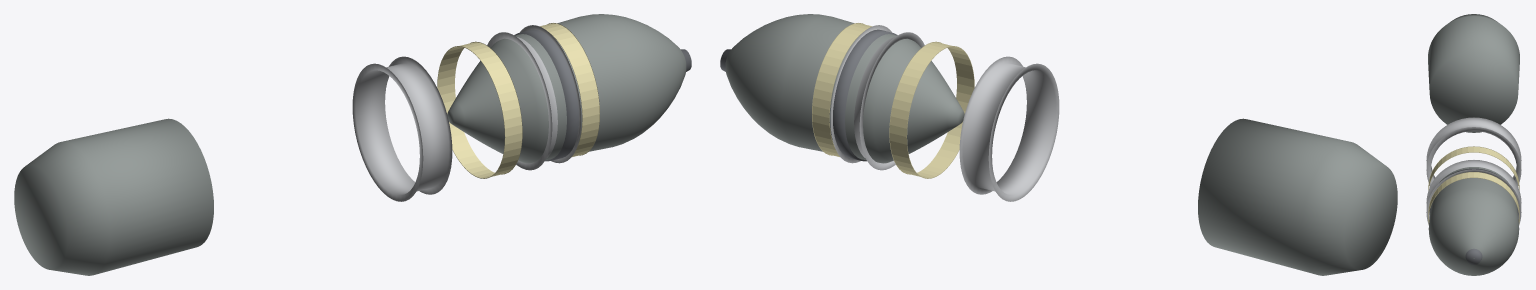
The model's file is US_SLBM_Poseidon_C3_LOD0.fbx.
The picture shows the model from 3 angles, left to right: view 1: azimuth 30°, elevation 25°; view 2: azimuth 150°, elevation 25°; view 3: azimuth 270°, elevation 25°; orthographic projection. The views are drawn at different scales.
Parts seen in each view (by area): view 1: WPN_US_SLBM_Poseidon_C3_LOD0_Tail, WPN_US_SLBM_Poseidon_C3_LOD0_Body, WPN_US_SLBM_Poseidon_C3_LOD0_Detail, WPN_US_SLBM_Poseidon_C3_LOD0_Marking, WPN_US_SLBM_Poseidon_C3_LOD0_Nose; view 2: WPN_US_SLBM_Poseidon_C3_LOD0_Tail, WPN_US_SLBM_Poseidon_C3_LOD0_Body, WPN_US_SLBM_Poseidon_C3_LOD0_Detail, WPN_US_SLBM_Poseidon_C3_LOD0_Marking, WPN_US_SLBM_Poseidon_C3_LOD0_Nose; view 3: WPN_US_SLBM_Poseidon_C3_LOD0_Tail, WPN_US_SLBM_Poseidon_C3_LOD0_Body, WPN_US_SLBM_Poseidon_C3_LOD0_Detail, WPN_US_SLBM_Poseidon_C3_LOD0_Marking, WPN_US_SLBM_Poseidon_C3_LOD0_Nose.
Boxes of the visible parts, left/top/right/bottom form: WPN_US_SLBM_Poseidon_C3_LOD0_Tail: left=14, top=118, right=213, bottom=275; WPN_US_SLBM_Poseidon_C3_LOD0_Body: left=447, top=14, right=686, bottom=163; WPN_US_SLBM_Poseidon_C3_LOD0_Detail: left=352, top=25, right=581, bottom=201; WPN_US_SLBM_Poseidon_C3_LOD0_Marking: left=437, top=23, right=599, bottom=178; WPN_US_SLBM_Poseidon_C3_LOD0_Nose: left=514, top=29, right=691, bottom=161; WPN_US_SLBM_Poseidon_C3_LOD0_Tail: left=1198, top=118, right=1397, bottom=275; WPN_US_SLBM_Poseidon_C3_LOD0_Body: left=725, top=14, right=964, bottom=163; WPN_US_SLBM_Poseidon_C3_LOD0_Detail: left=830, top=25, right=1059, bottom=201; WPN_US_SLBM_Poseidon_C3_LOD0_Marking: left=812, top=23, right=974, bottom=178; WPN_US_SLBM_Poseidon_C3_LOD0_Nose: left=720, top=29, right=897, bottom=161; WPN_US_SLBM_Poseidon_C3_LOD0_Tail: left=1428, top=14, right=1519, bottom=132; WPN_US_SLBM_Poseidon_C3_LOD0_Body: left=1428, top=167, right=1519, bottom=275; WPN_US_SLBM_Poseidon_C3_LOD0_Detail: left=1426, top=117, right=1521, bottom=225; WPN_US_SLBM_Poseidon_C3_LOD0_Marking: left=1428, top=146, right=1519, bottom=224; WPN_US_SLBM_Poseidon_C3_LOD0_Nose: left=1429, top=168, right=1518, bottom=264.
Bounding box in the file's own units: 10.4 × 1.97 × 1.97.
